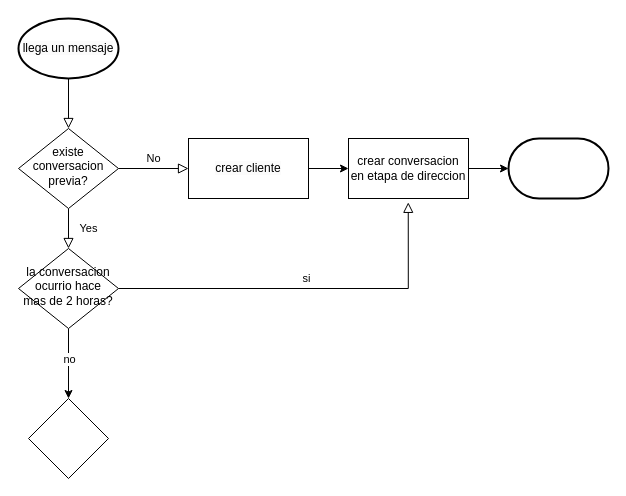
Some shapes in this 626 by 496 pixel diagram are drawn without their labels. The centre of each missing label's shape, as x and y in pixels:
"esta en etapa de direccion" belongs at pixel 68 438.
"responder con pregunta de direccion" belongs at pixel 558 168.
